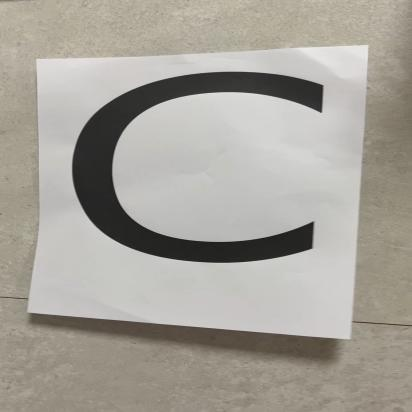seat: (62, 61, 352, 323)
